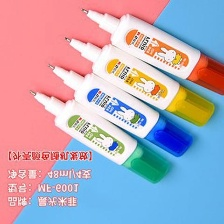correction_fluid: (60, 33, 217, 128), (45, 62, 197, 159), (26, 88, 173, 186), (77, 6, 224, 98)
